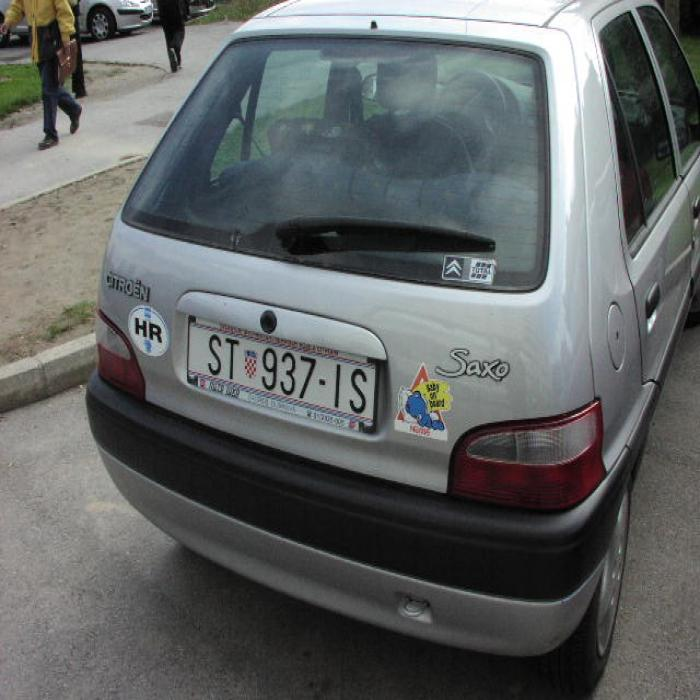number_plate: (188, 320, 374, 424)
